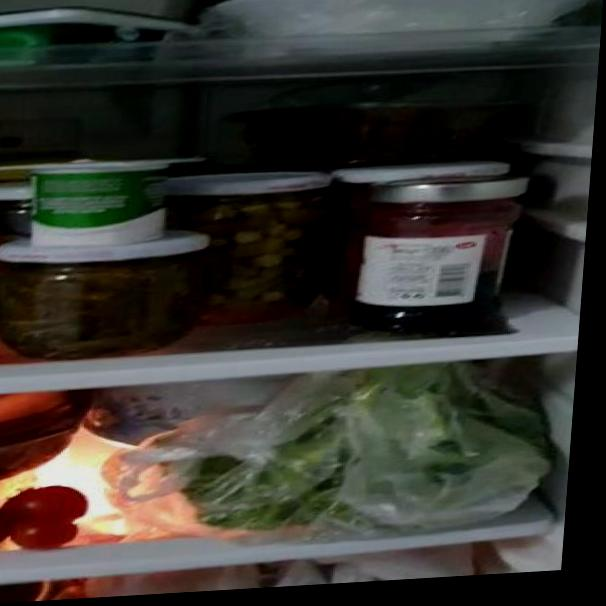cream cheese: (0, 2, 166, 68)
lettuce: (179, 413, 533, 533)
tomato: (0, 487, 83, 549)
yoghurt: (0, 154, 186, 247)
